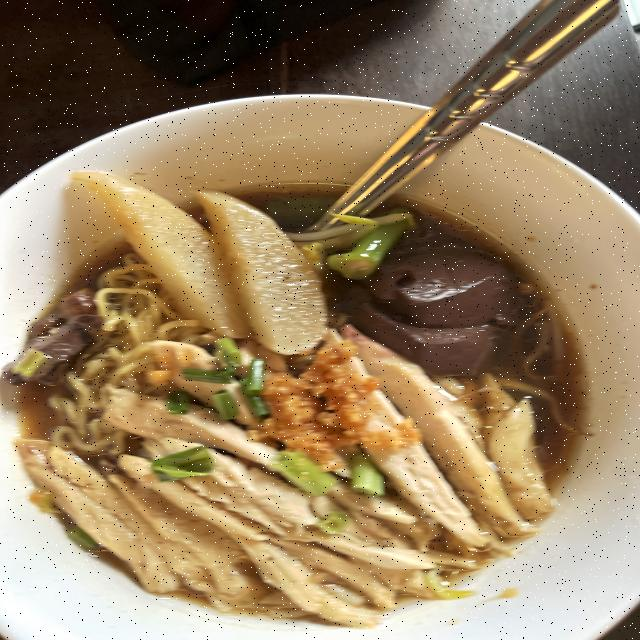boiled_chicken_blood_jelly: (370, 245, 498, 360)
chicken_shredded: (57, 356, 550, 589)
daikon_radish: (66, 162, 345, 354)
noodle: (0, 94, 640, 632)
